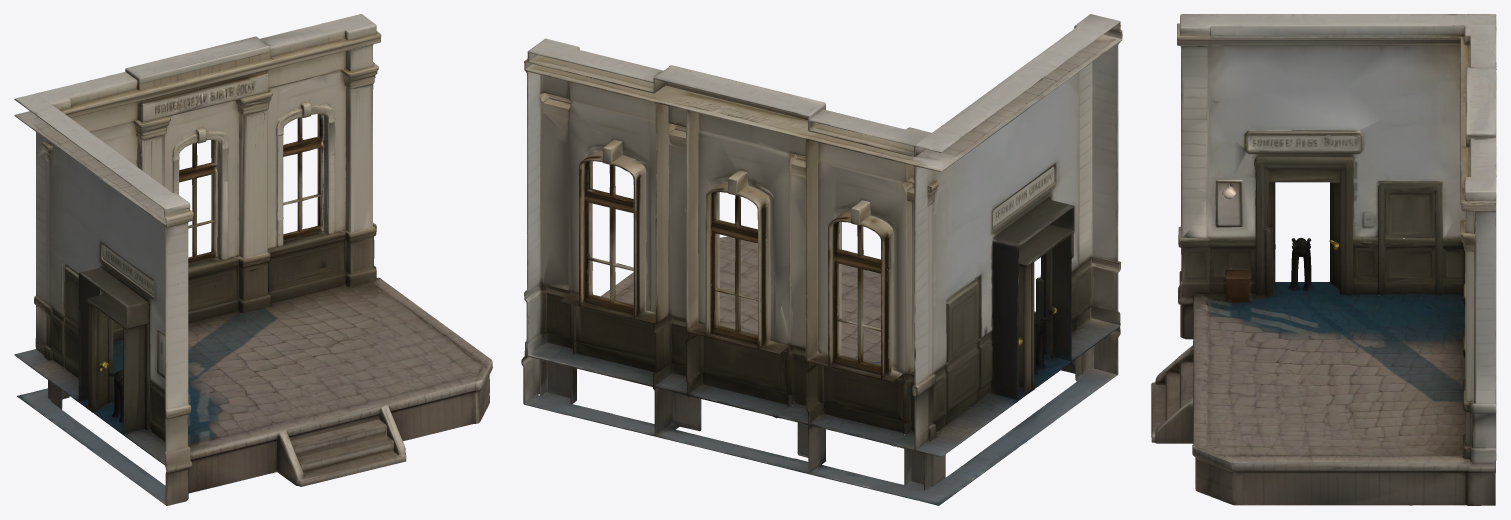
The model's file is env-ministry-shell.glb.
3 renders of one model, left to right at view 1: azimuth 30°, elevation 25°; view 2: azimuth 150°, elevation 25°; view 3: azimuth 270°, elevation 25°, orthographic. The views are drawn at different scales.
Parts seen in each view (by area): view 1: env-ministry-shell; view 2: env-ministry-shell; view 3: env-ministry-shell.
Part boxes in pixels (bbox=[...]): env-ministry-shell: bbox=[14, 14, 492, 505]; env-ministry-shell: bbox=[521, 14, 1122, 505]; env-ministry-shell: bbox=[1151, 14, 1496, 505].
Bounding box in the file's own units: 6.6 × 5.4 × 5.33.
Materials: 1 (1 with a texture image).
